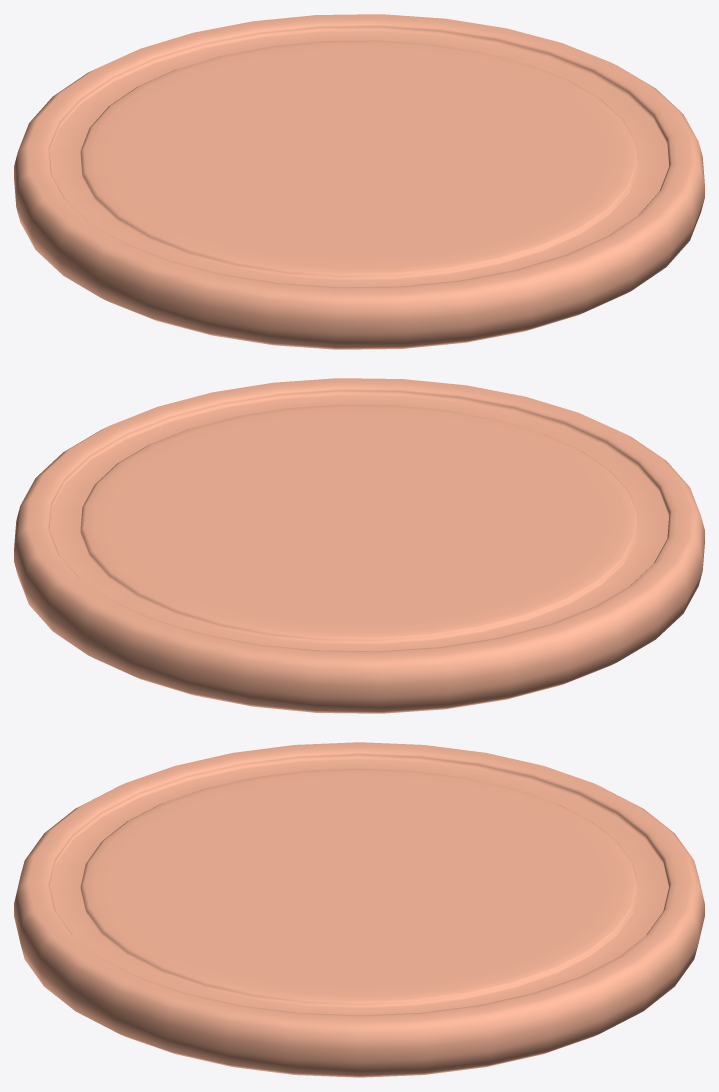
File: medieval_coin.fbx
3 views of the same model, one above another, from view 1: azimuth 30°, elevation 25°; view 2: azimuth 150°, elevation 25°; view 3: azimuth 270°, elevation 25° (orthographic).
Visible parts, largest first — view 1: Gold_Coin; view 2: Gold_Coin; view 3: Gold_Coin.
Boxes of the visible parts, <box> form: Gold_Coin: <box>14,14,704,349</box>; Gold_Coin: <box>14,378,704,713</box>; Gold_Coin: <box>14,742,704,1077</box>.
Size of the model in its own units: 136 by 12.02 by 136.
